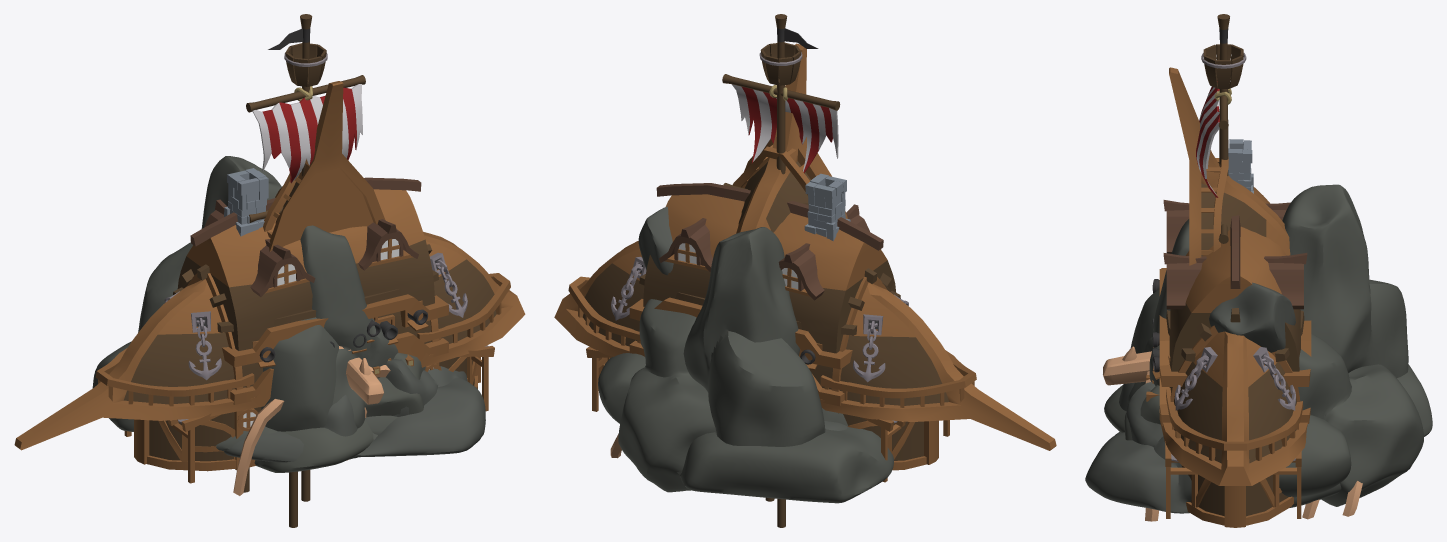
Rendered from qprops.glb.
The picture shows the model from 3 angles, left to right: view 1: azimuth 30°, elevation 25°; view 2: azimuth 150°, elevation 25°; view 3: azimuth 270°, elevation 25°; orthographic projection. The views are drawn at different scales.
Parts seen in each view (by area): view 1: Environment_House1, Environment_House3, Environment_Cliff2, Environment_Cliff4, Environment_House2, Environment_Cliff3, Environment_Cliff1, Environment_LargeBones; view 2: Environment_Cliff2, Environment_House1, Environment_House3, Environment_House2, Environment_Cliff4; view 3: Environment_House1, Environment_Cliff2, Environment_Cliff4, Environment_House3, Environment_House2, Environment_LargeBones, Environment_Cliff3, Environment_Cliff1.
Part boxes in pixels (box(x1,y1,x2,y2)): Environment_House1: box(14, 168, 525, 471); Environment_House3: box(124, 14, 494, 483); Environment_Cliff2: box(92, 156, 397, 451); Environment_Cliff4: box(224, 359, 485, 462); Environment_House2: box(263, 81, 385, 251); Environment_Cliff3: box(300, 225, 398, 459); Environment_Cliff1: box(254, 353, 425, 472); Environment_LargeBones: box(233, 357, 390, 495); Environment_Cliff2: box(598, 227, 893, 503); Environment_House1: box(554, 173, 1056, 470); Environment_House3: box(586, 14, 949, 482); Environment_House2: box(732, 43, 847, 233); Environment_Cliff4: box(638, 206, 847, 430); Environment_House1: box(1146, 139, 1311, 527); Environment_Cliff2: box(1130, 184, 1432, 506); Environment_Cliff4: box(1085, 282, 1295, 513); Environment_House3: box(1152, 14, 1310, 518); Environment_House2: box(1169, 67, 1290, 265); Environment_LargeBones: box(1103, 346, 1362, 521); Environment_Cliff3: box(1127, 219, 1341, 507); Environment_Cliff1: box(1104, 385, 1160, 440).
Size of the model in its own units: 13.54 by 12.64 by 7.9.
Materials: 2 (1 with a texture image).
